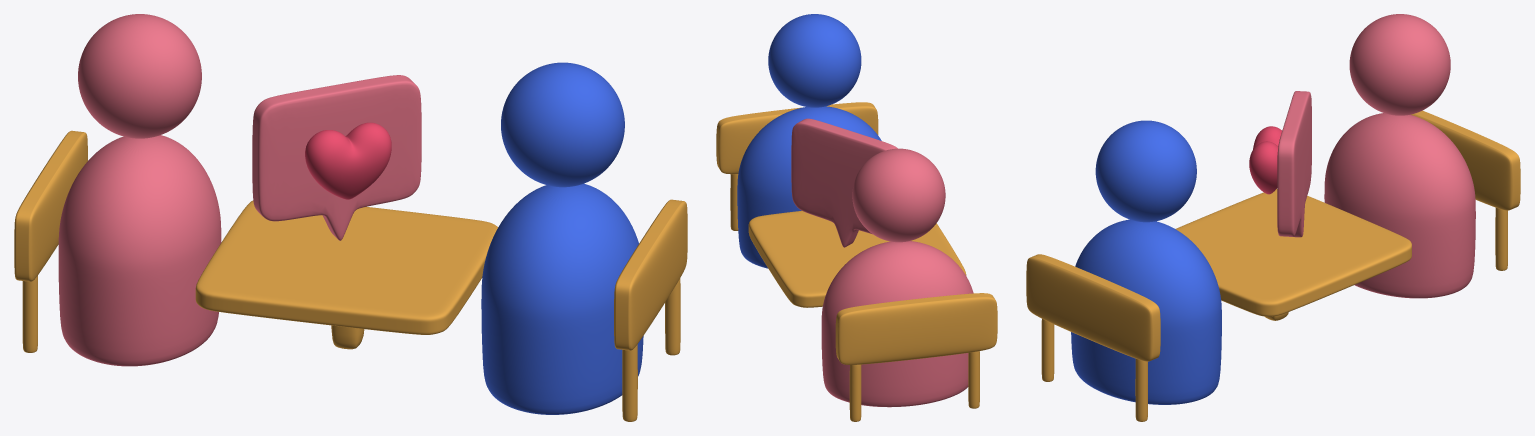
File: casual-meetup-3d-animated-icon-617180577463.glb
3 renders of one model, left to right at view 1: azimuth 30°, elevation 25°; view 2: azimuth 150°, elevation 25°; view 3: azimuth 270°, elevation 25°, orthographic. The views are drawn at different scales.
Parts seen in each view (by area): view 1: female.001, table, male.001, buble, male, female, chair 1, chair 2, heart; view 2: female.001, chair 2, table, buble, male, female, male.001, chair 1; view 3: female.001, male.001, table, chair 1, male, female, chair 2, buble, heart.
Part boxes in pixels (bbox=[...]): female.001: bbox=[58, 135, 221, 366]; table: bbox=[195, 200, 497, 349]; male.001: bbox=[481, 183, 643, 414]; buble: bbox=[252, 75, 421, 240]; male: bbox=[501, 62, 624, 187]; female: bbox=[78, 14, 201, 138]; chair 1: bbox=[614, 199, 687, 421]; chair 2: bbox=[14, 130, 87, 352]; heart: bbox=[305, 122, 391, 199]; female.001: bbox=[821, 241, 973, 407]; chair 2: bbox=[835, 293, 997, 421]; table: bbox=[748, 210, 966, 307]; buble: bbox=[791, 118, 897, 247]; male: bbox=[768, 14, 861, 107]; female: bbox=[852, 148, 945, 242]; male.001: bbox=[737, 106, 881, 268]; chair 1: bbox=[716, 102, 878, 230]; female.001: bbox=[1324, 113, 1475, 298]; male.001: bbox=[1071, 219, 1221, 404]; table: bbox=[1175, 189, 1411, 320]; chair 1: bbox=[1026, 254, 1160, 421]; male: bbox=[1095, 120, 1196, 222]; female: bbox=[1349, 14, 1450, 115]; chair 2: bbox=[1411, 110, 1520, 270]; buble: bbox=[1277, 91, 1311, 237]; heart: bbox=[1249, 126, 1281, 194].
Bounding box in the file's own units: 2.8 × 1.58 × 2.81.
